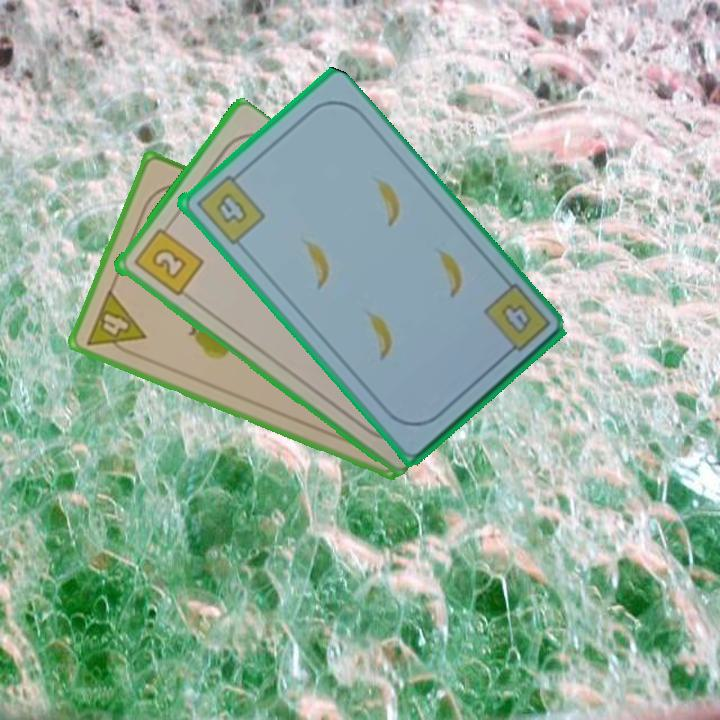2b: (129, 219, 206, 299)
4b: (191, 167, 267, 248), (479, 280, 553, 362)
4p: (82, 285, 149, 361)
